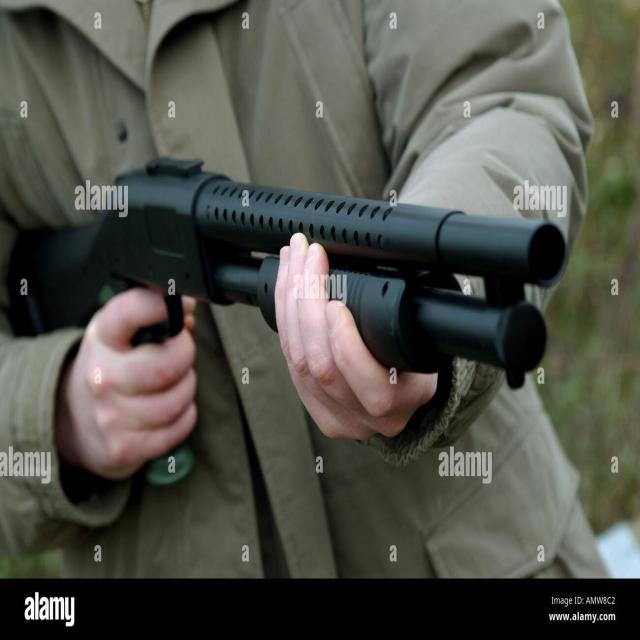ShotGun: (5, 158, 569, 390)
